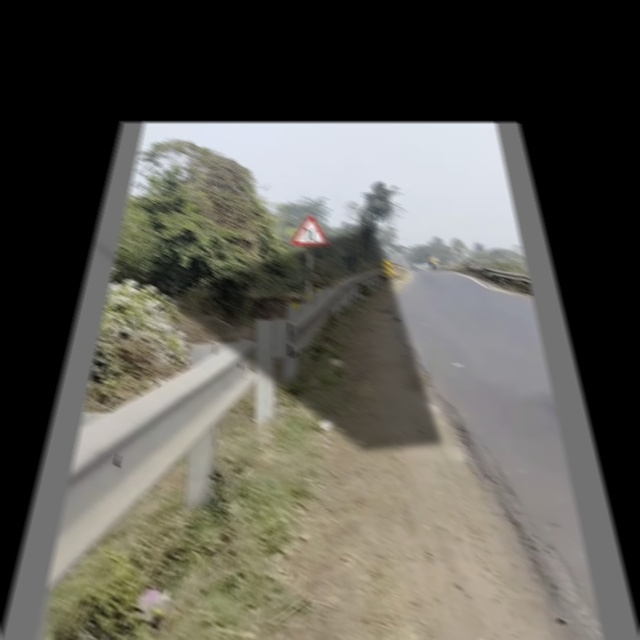Narrow_Bridge: (292, 214, 328, 246)
